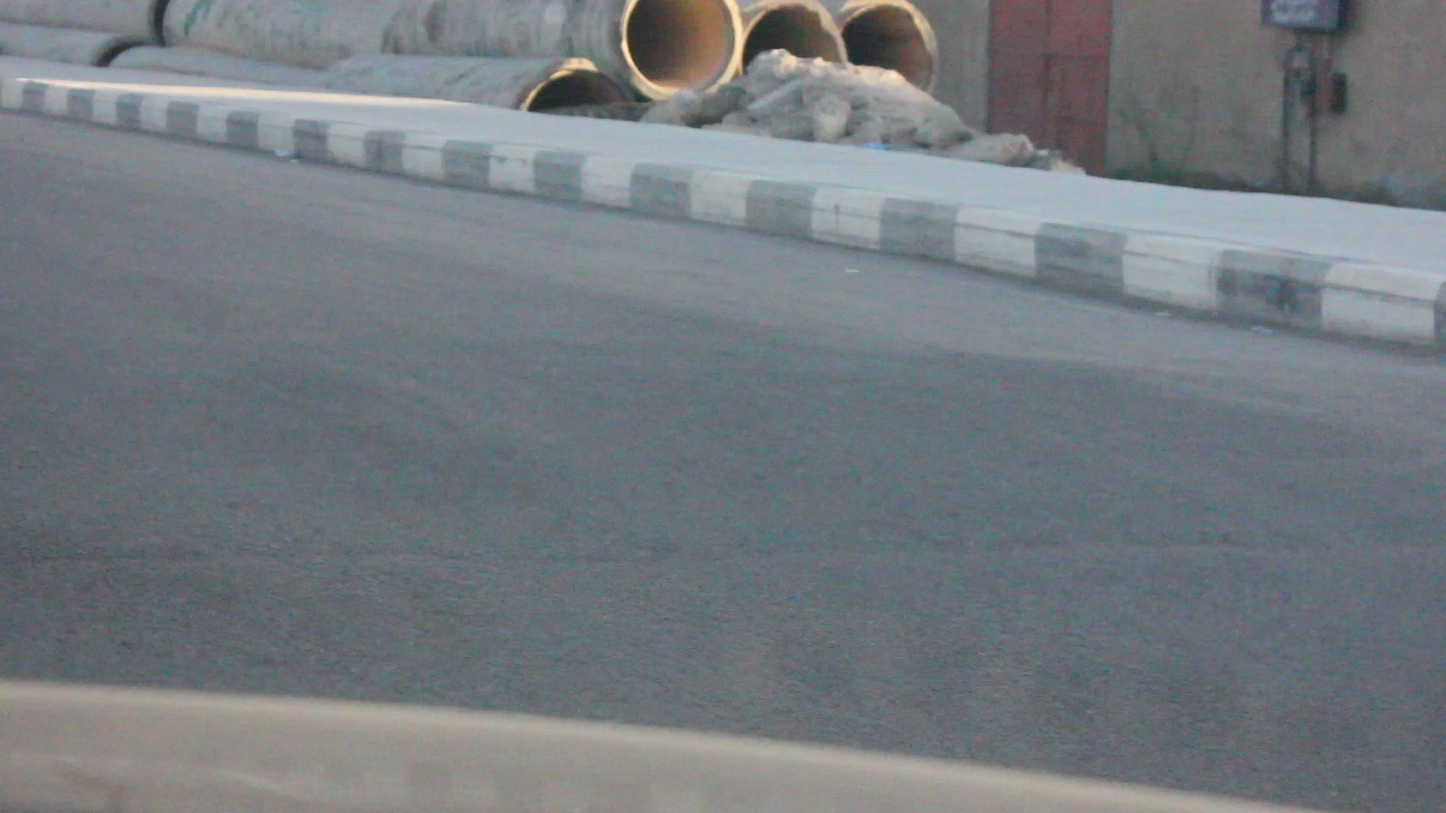Bump: (0, 307, 1445, 565)
